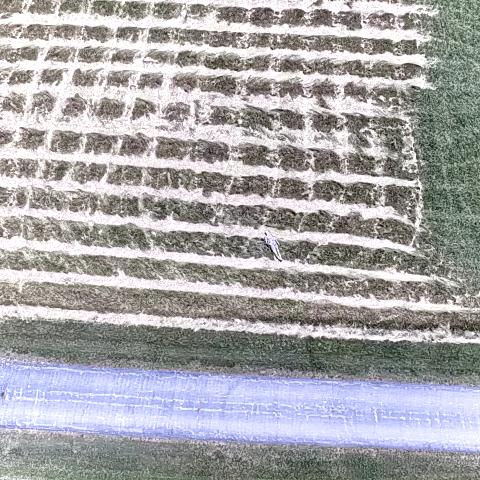person: (261, 228, 286, 263)
